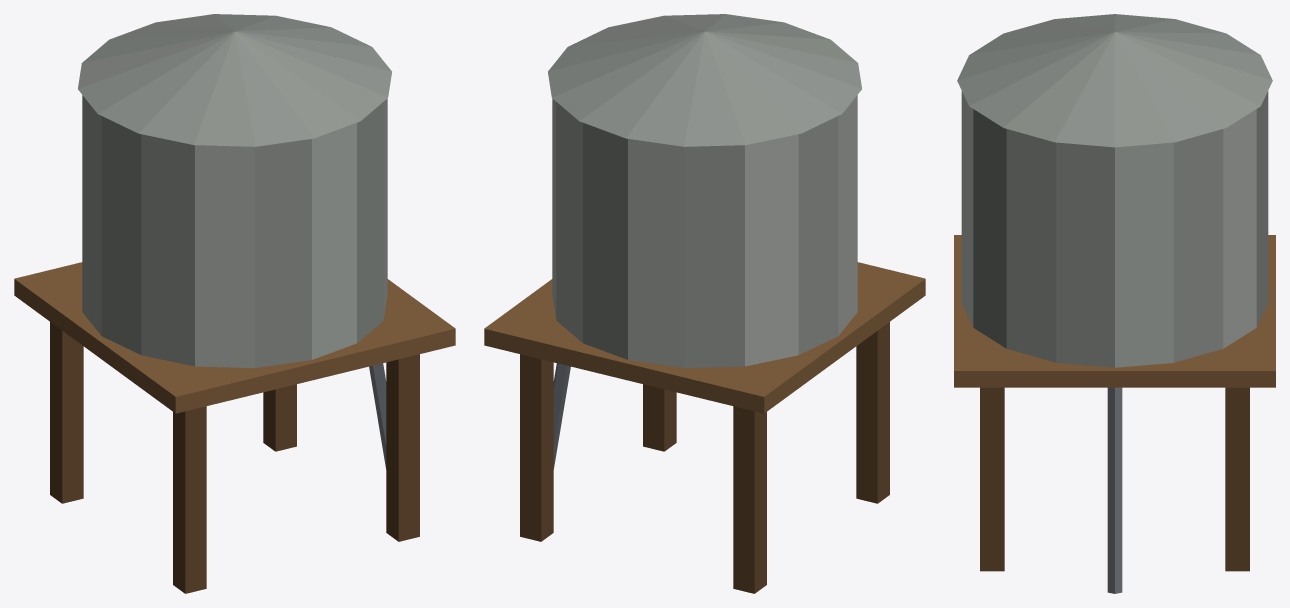
Rendered from water_tank.glb.
The picture shows the model from 3 angles, left to right: view 1: azimuth 30°, elevation 25°; view 2: azimuth 150°, elevation 25°; view 3: azimuth 270°, elevation 25°; orthographic projection.
Parts seen in each view (by area): view 1: water_tank2; view 2: water_tank2; view 3: water_tank2.
Part boxes in pixels (x1,y1,x2,y2): water_tank2: (14, 14, 455, 593); water_tank2: (484, 14, 925, 593); water_tank2: (954, 14, 1275, 593).
Bounding box in the file's own units: 2.3 × 3.48 × 2.1.
